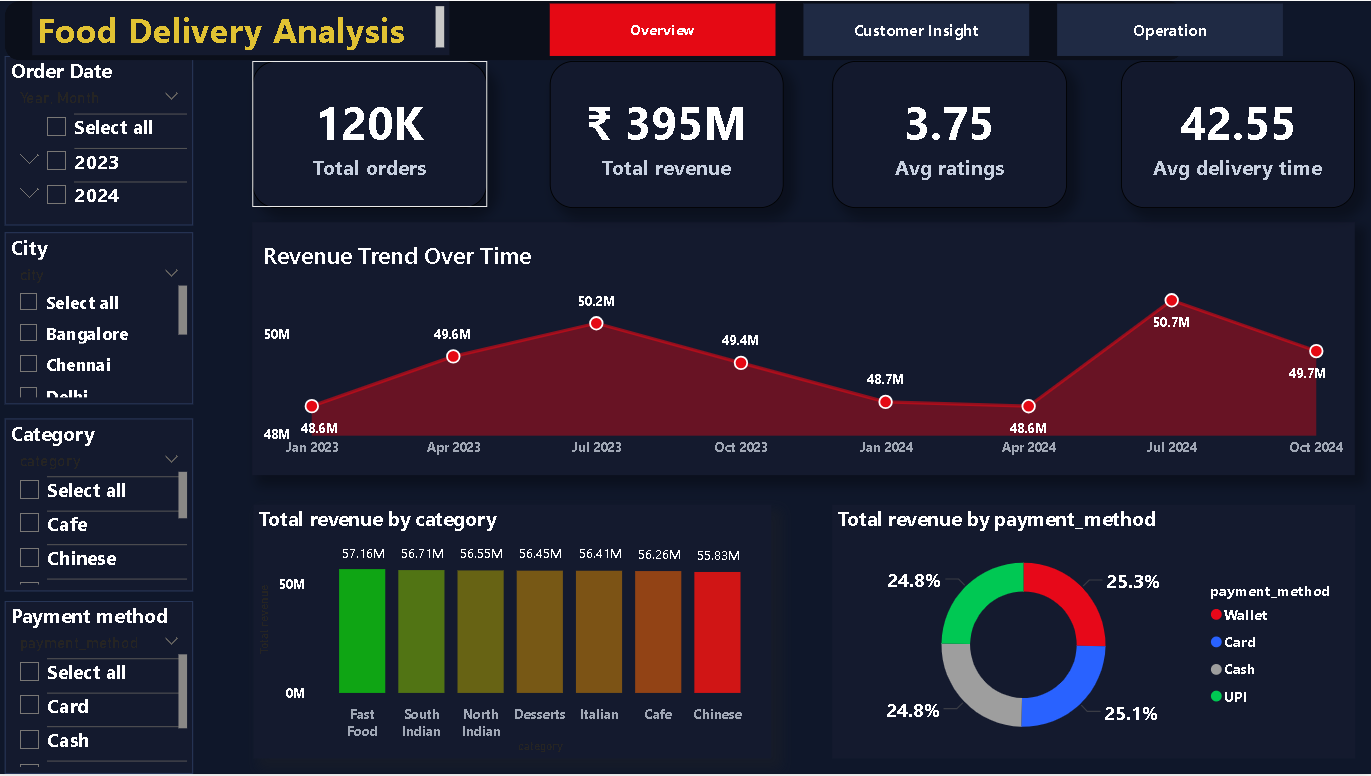

What the dashboard file says about the page in this screenshot:
{"tool":"powerbi","page":{"name":"Overview","canvas":[1280,720],"ordinal":0},"visuals":[{"type":"card","fields":{"Values":["CleanOrders.Total orders"]},"box":[238.9,55.2,218.5,136.9],"z":0},{"type":"lineChart","title":"Revenue Trend Over Time","fields":{"Y":["CleanOrders.Total revenue"],"Category":["CleanOrders.order_date.Variation.Date Hierarchy.Year","CleanOrders.order_date.Variation.Date Hierarchy.Quarter"]},"box":[238.9,205.3,1025.4,235.3],"z":1000},{"type":"card","fields":{"Values":["CleanOrders.Total revenue"]},"box":[515.1,55.2,217.3,136.9],"z":2000},{"type":"card","fields":{"Values":["CleanOrders.Avg ratings"]},"box":[778.1,55.2,218.5,136.9],"z":3000},{"type":"card","fields":{"Values":["CleanOrders.Avg delivery"]},"box":[1047.1,55.2,217.3,136.9],"z":4000},{"type":"clusteredColumnChart","fields":{"Category":["CleanOrders.category"],"Y":["CleanOrders.Total revenue"]},"box":[239.5,468.6,481.4,236],"z":5000},{"type":"donutChart","fields":{"Category":["CleanOrders.payment_method"],"Y":["CleanOrders.Total revenue"]},"box":[777.9,468.6,486,236],"z":6000},{"type":"slicer","title":"City","fields":{"Values":["CleanOrders.city"]},"box":[8.4,214.9,175.3,159.7],"z":7000},{"type":"slicer","title":"Category","fields":{"Values":["CleanOrders.category"]},"box":[8.4,387.8,175.3,160.9],"z":8000},{"type":"slicer","title":"Payment method","fields":{"Values":["CleanOrders.payment_method"]},"box":[8.4,558.3,175.3,160.9],"z":9000},{"type":"slicer","title":"Order Date","fields":{"Values":["CleanOrders.order_date.Variation.Date Hierarchy.Year","CleanOrders.order_date.Variation.Date Hierarchy.Month"]},"box":[8.4,51.6,175.3,157.3],"z":10000},{"type":"shape","box":[8.4,0,1096.3,55.2],"z":11000},{"type":"pageNavigator","box":[515.1,2.4,683.2,49.2],"z":12000},{"type":"textbox","box":[33.6,0,387.8,50.4],"z":13000}]}

Visuals, with their boxes in screenshot pixels (x1, y1, x2, y2), scaled from the page's 1280x720 canvas onto the 1371x776 screenshot:
card - CleanOrders.Total orders: select_region(256, 59, 490, 207)
"Revenue Trend Over Time" lineChart: select_region(256, 221, 1354, 475)
card - CleanOrders.Total revenue: select_region(552, 59, 784, 207)
card - CleanOrders.Avg ratings: select_region(833, 59, 1067, 207)
card - CleanOrders.Avg delivery: select_region(1122, 59, 1354, 207)
clusteredColumnChart - CleanOrders.category x CleanOrders.Total revenue: select_region(257, 505, 772, 759)
donutChart - CleanOrders.payment_method x CleanOrders.Total revenue: select_region(833, 505, 1354, 759)
"City" slicer: select_region(9, 232, 197, 404)
"Category" slicer: select_region(9, 418, 197, 591)
"Payment method" slicer: select_region(9, 602, 197, 775)
"Order Date" slicer: select_region(9, 56, 197, 225)
shape: select_region(9, 0, 1183, 59)
pageNavigator: select_region(552, 3, 1283, 56)
textbox: select_region(36, 0, 451, 54)
